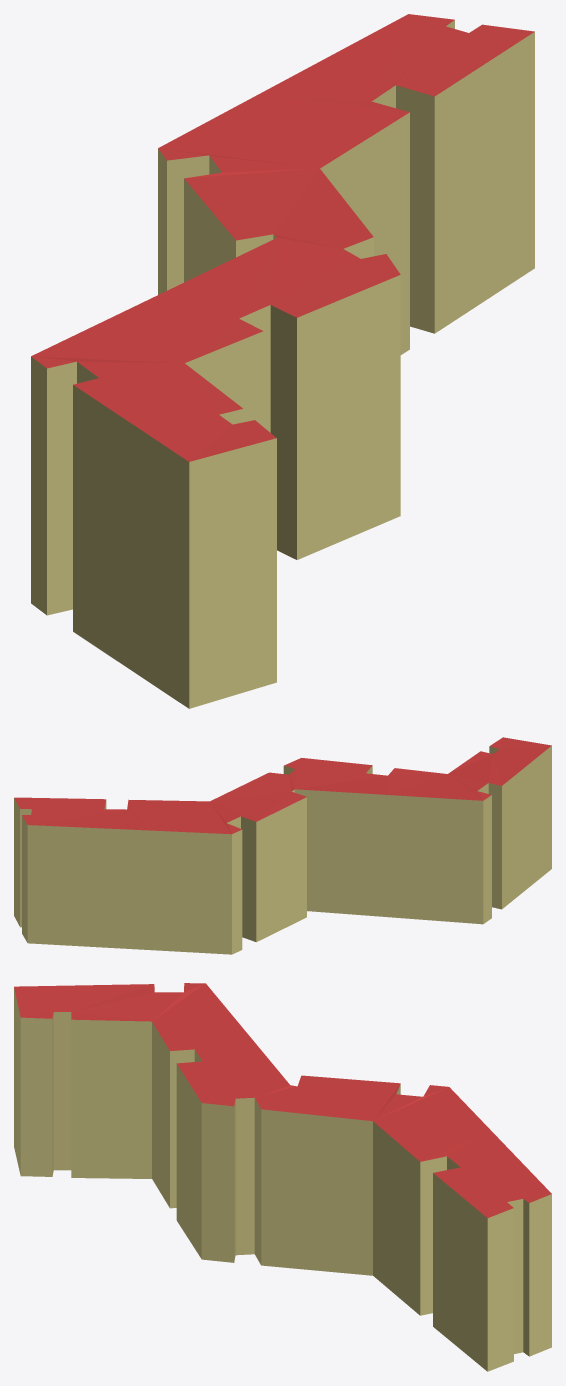
3 views of the same model, one above another, from view 1: azimuth 30°, elevation 25°; view 2: azimuth 150°, elevation 25°; view 3: azimuth 270°, elevation 25° (orthographic). The views are drawn at different scales.
Visible parts, largest first — view 1: group_4, group_3; view 2: group_4, group_3; view 3: group_4, group_3.
Boxes of the visible parts, x1=… form: group_4: x1=31, y1=20, x2=534, y2=708; group_3: x1=31, y1=14, x2=534, y2=461; group_4: x1=14, y1=746, x2=551, y2=954; group_3: x1=14, y1=737, x2=551, y2=834; group_4: x1=14, y1=987, x2=551, y2=1371; group_3: x1=14, y1=983, x2=551, y2=1218.
Bounding box in the file's own units: 54.18 × 53.91 × 17.71.
